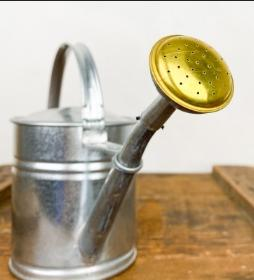ARROSOIR: (5, 25, 235, 280)
